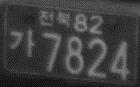2: (87, 37, 109, 78), (88, 14, 105, 35)
4: (111, 40, 132, 80)
7: (41, 29, 61, 73)
8: (64, 35, 84, 74), (73, 12, 88, 33)
가: (10, 27, 34, 58)
전북_O: (38, 9, 71, 29)
